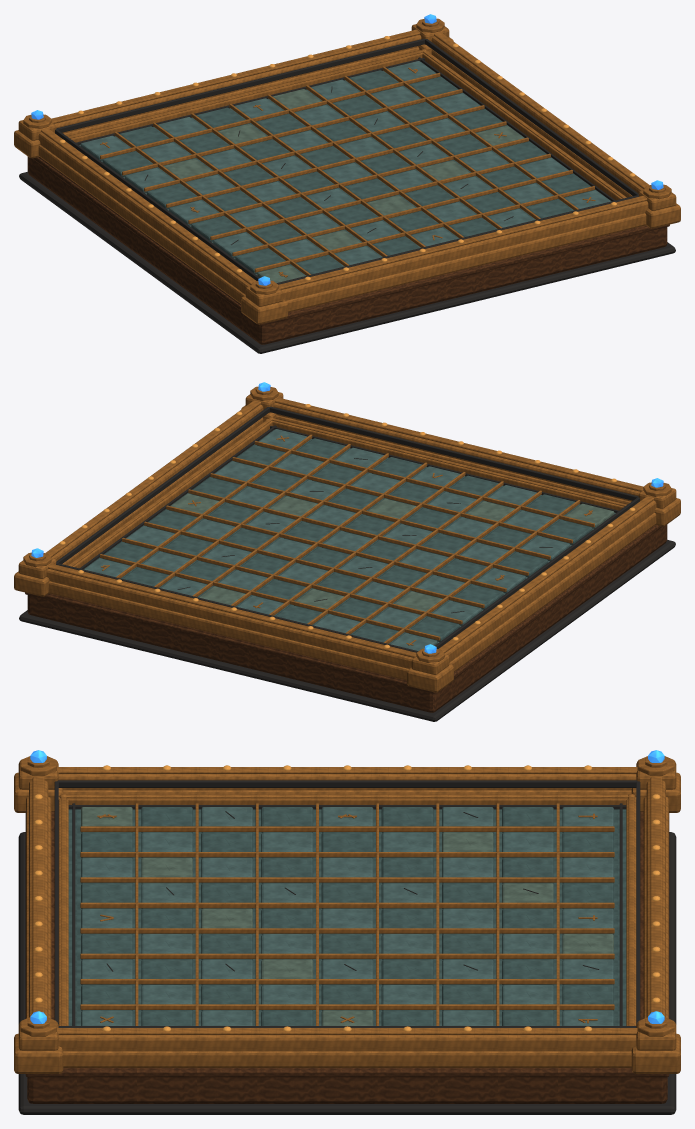
The model's file is board.glb.
3 renders of one model, top to bottom at view 1: azimuth 30°, elevation 25°; view 2: azimuth 150°, elevation 25°; view 3: azimuth 270°, elevation 25°, orthographic. The views are drawn at different scales.
Visible parts, largest first — view 1: Board_Base, Board_Underside_Shadow, Frame_Rail_Back, Frame_Skirt_Back, Board_Body_Band, Board_Inset_Bed, Frame_Rail_Left, Frame_Rail_Front, Frame_Skirt_Left, Frame_Inner_Lip_Front, Frame_Bead_Back, Frame_Bead_Front (+110 smaller); view 2: Board_Base, Board_Underside_Shadow, Frame_Rail_Front, Frame_Skirt_Front, Board_Body_Band, Board_Inset_Bed, Frame_Rail_Left, Frame_Rail_Back, Frame_Skirt_Left, Frame_Inner_Lip_Back, Frame_Bead_Front, Frame_Bead_Back (+110 smaller); view 3: Board_Base, Board_Inset_Bed, Board_Underside_Shadow, Frame_Rail_Right, Frame_Skirt_Right, Frame_Rail_Left, Board_Body_Band, Frame_Inner_Lip_Left, Inner_Border_Left, Frame_Bead_Left, Frame_Bead_Right, Grid_Separator_X_4 (+120 smaller).
Part boxes in pixels (box(x1,y1,x2,y2)): Board_Base: box(27, 156, 667, 344); Board_Underside_Shadow: box(19, 171, 675, 353); Frame_Rail_Back: box(281, 201, 648, 300); Frame_Skirt_Back: box(286, 213, 646, 312); Board_Body_Band: box(32, 157, 669, 325); Board_Inset_Bed: box(79, 61, 610, 275); Frame_Rail_Left: box(38, 132, 250, 294); Frame_Rail_Front: box(54, 34, 421, 133); Frame_Skirt_Left: box(38, 145, 245, 303); Frame_Inner_Lip_Front: box(56, 38, 425, 132); Frame_Bead_Back: box(278, 195, 646, 289); Frame_Bead_Front: box(51, 29, 420, 123); Board_Base: box(27, 524, 667, 712); Board_Underside_Shadow: box(19, 539, 675, 721); Frame_Rail_Front: box(46, 569, 413, 668); Frame_Skirt_Front: box(48, 581, 408, 680); Board_Body_Band: box(25, 525, 662, 693); Board_Inset_Bed: box(84, 429, 615, 643); Frame_Rail_Left: box(444, 500, 656, 662); Frame_Rail_Back: box(273, 402, 640, 501); Frame_Skirt_Left: box(449, 513, 656, 671); Frame_Inner_Lip_Back: box(269, 406, 638, 500); Frame_Bead_Front: box(48, 563, 416, 657); Frame_Bead_Back: box(274, 397, 643, 491); Board_Base: box(27, 811, 667, 1103); Board_Inset_Bed: box(68, 809, 626, 1025); Board_Underside_Shadow: box(18, 832, 676, 1114); Frame_Rail_Right: box(58, 1035, 636, 1051); Frame_Skirt_Right: box(63, 1051, 631, 1067); Frame_Rail_Left: box(58, 774, 636, 790); Board_Body_Band: box(25, 813, 669, 1077); Frame_Inner_Lip_Left: box(58, 780, 636, 787); Inner_Border_Left: box(58, 797, 636, 804); Frame_Bead_Left: box(57, 767, 637, 773); Frame_Bead_Right: box(57, 1028, 637, 1034); Grid_Separator_X_4: box(80, 902, 614, 908).
Bounding box in the file's own units: 11.09 × 1.78 × 11.09.
13 materials, 12 textured.
